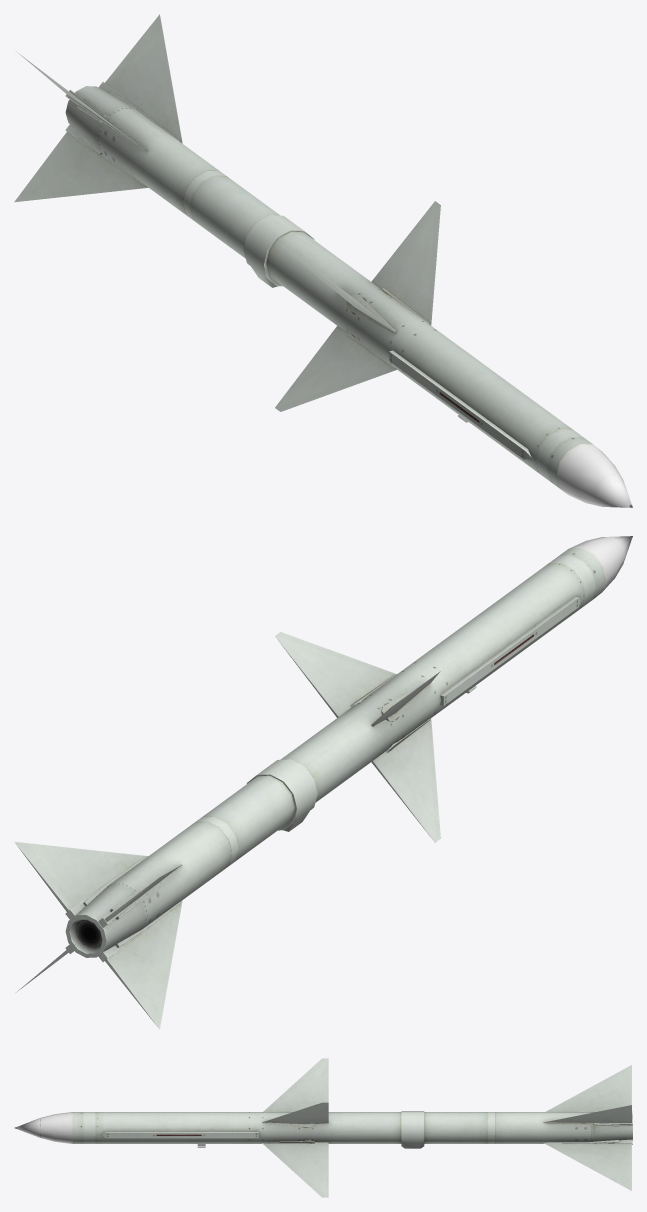
The model's file is NormalMissile.FBX.
3 renders of one model, top to bottom at view 1: azimuth 30°, elevation 25°; view 2: azimuth 150°, elevation 25°; view 3: azimuth 270°, elevation 25°, orthographic. The views are drawn at different scales.
Parts seen in each view (by area): view 1: Missile_6; view 2: Missile_6; view 3: Missile_6.
Boxes of the visible parts, box(x1,y1,x2,y2) form: Missile_6: box(14, 14, 632, 507); Missile_6: box(14, 536, 632, 1029); Missile_6: box(14, 1058, 632, 1197).
Size of the model in its own units: 99.39 by 587 by 99.39.
1 material, 1 textured.
